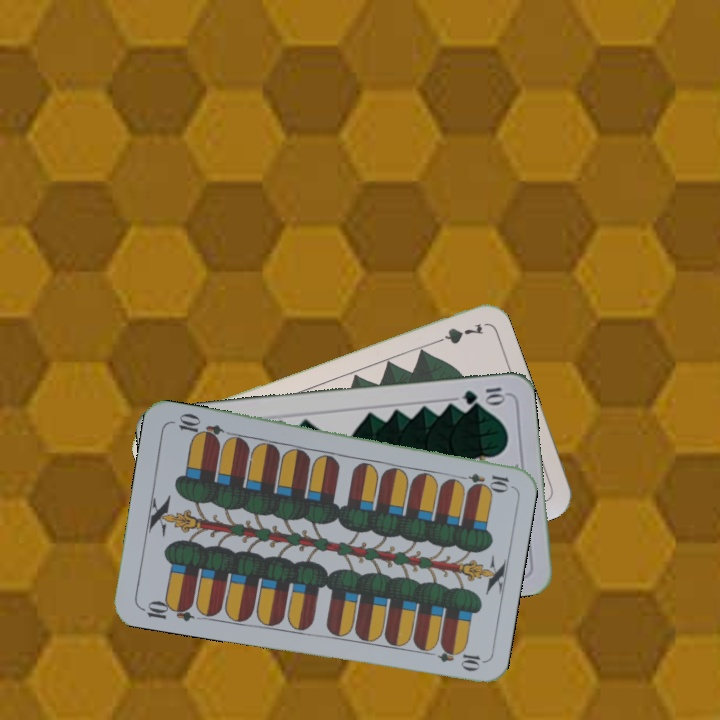E10: (137, 596, 196, 624), (452, 469, 511, 492)
G10: (459, 383, 508, 407)
G7: (427, 319, 487, 348)
